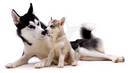dog: (5, 2, 124, 67), (44, 15, 78, 68)
